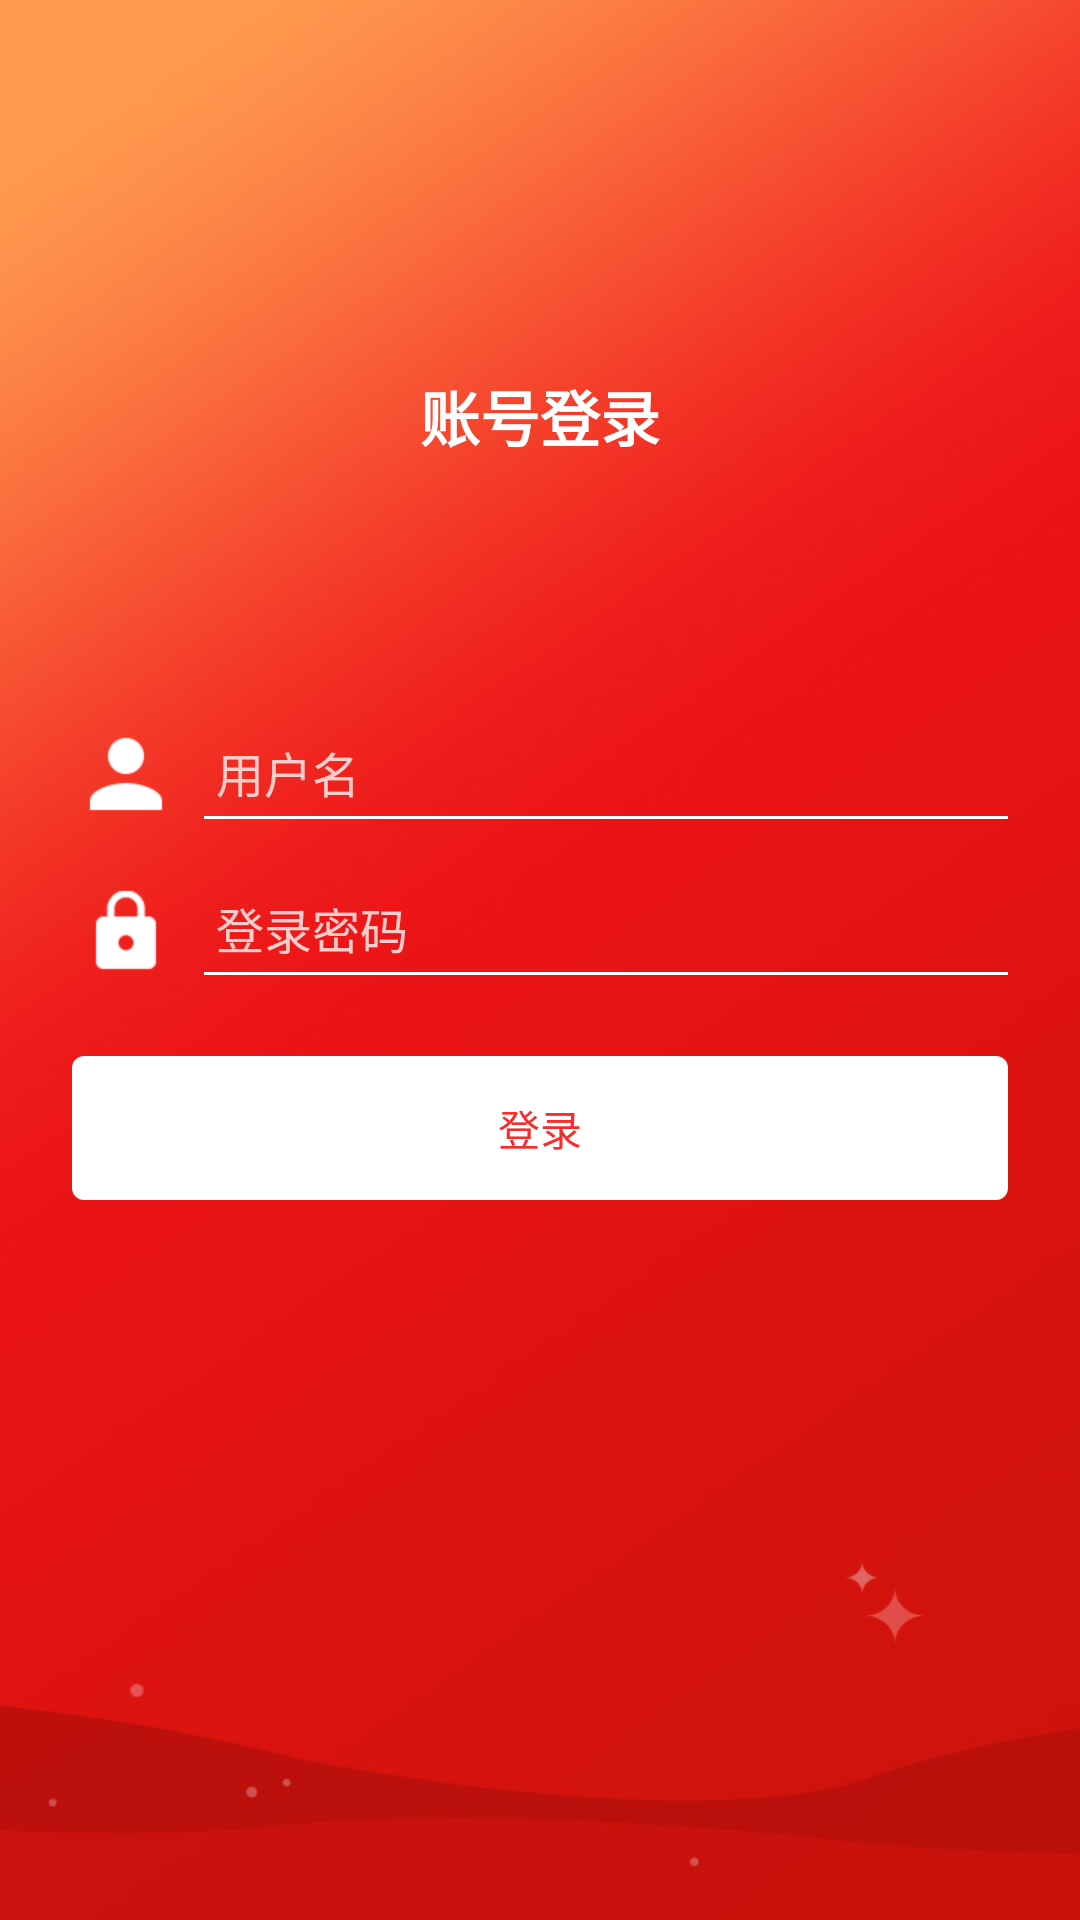

Screen size 1080 x 1920. Icon name, then its box in pixels as (x1, y1, x2, y2):
password: (95, 890, 157, 970)
username: (89, 737, 163, 811)
